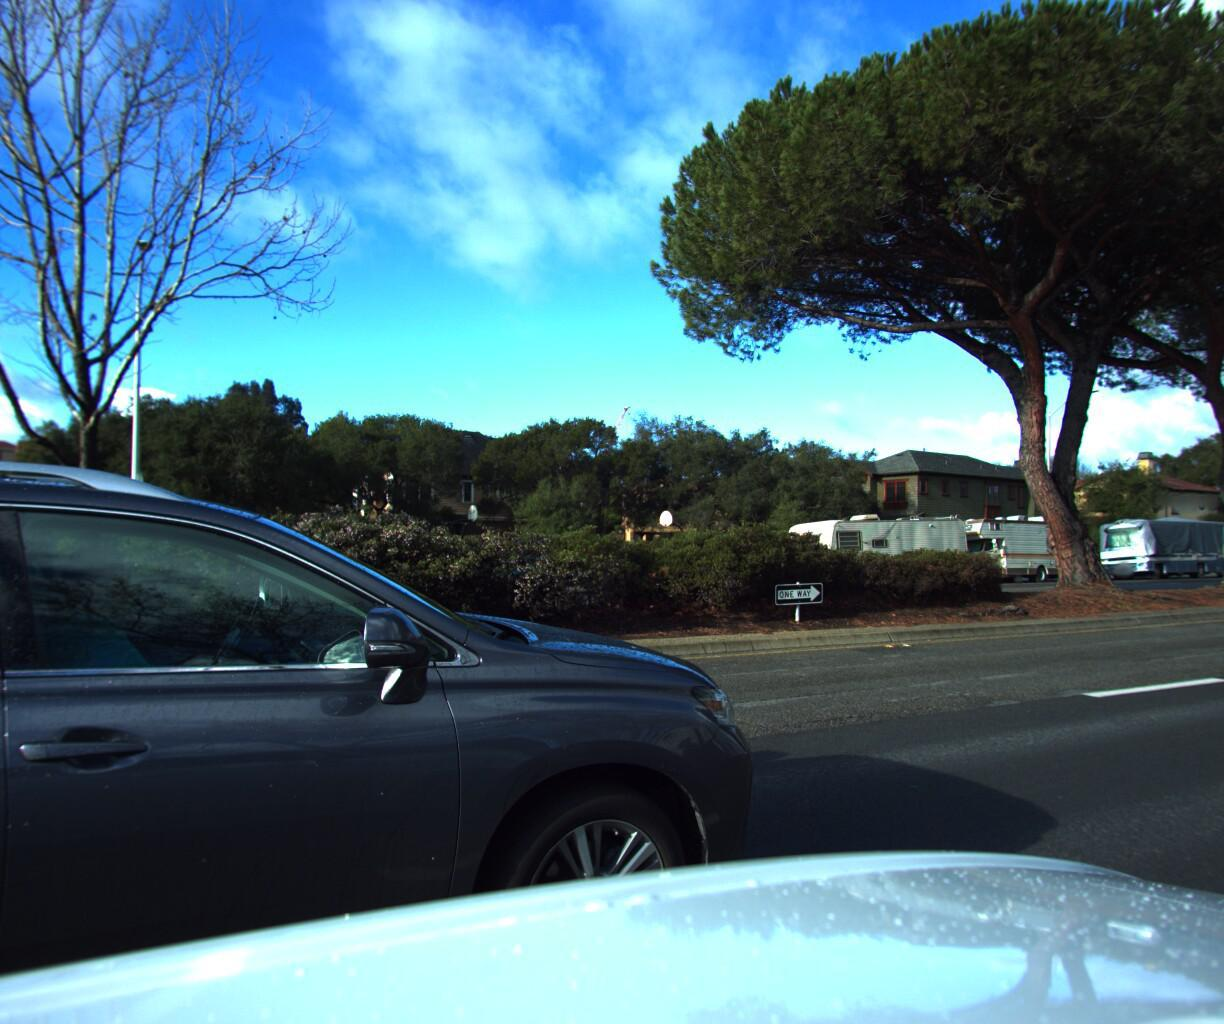car: (0, 188, 840, 1024), (0, 483, 193, 623), (1210, 548, 1224, 581)
other_vehicle: (764, 502, 974, 584), (923, 504, 1092, 578), (1086, 507, 1224, 575)
